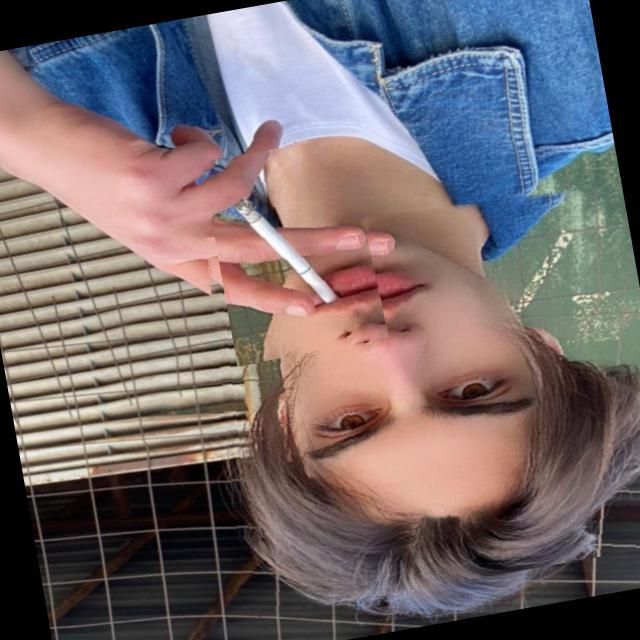cigarette: (200, 136, 388, 367)
